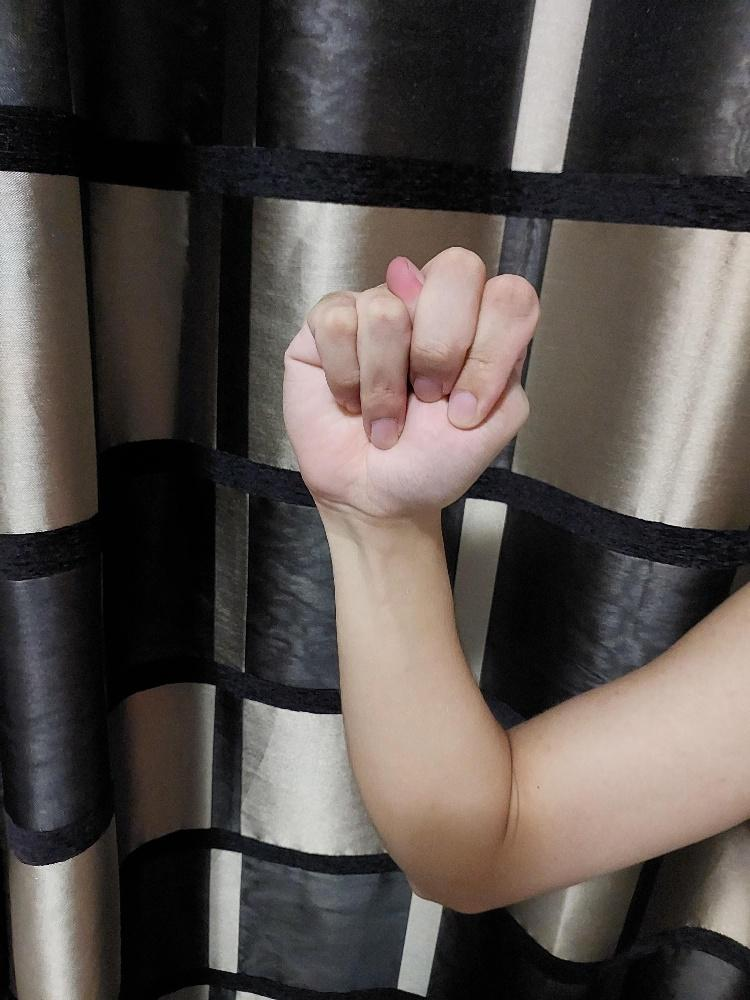n: (278, 243, 542, 522)
